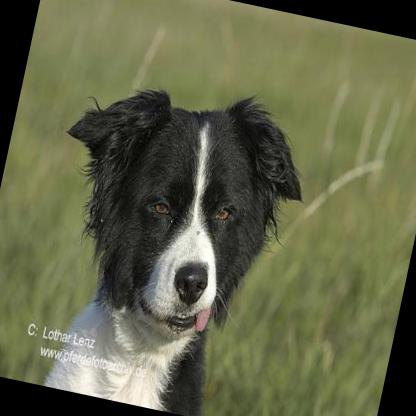collie: (11, 56, 323, 416)
